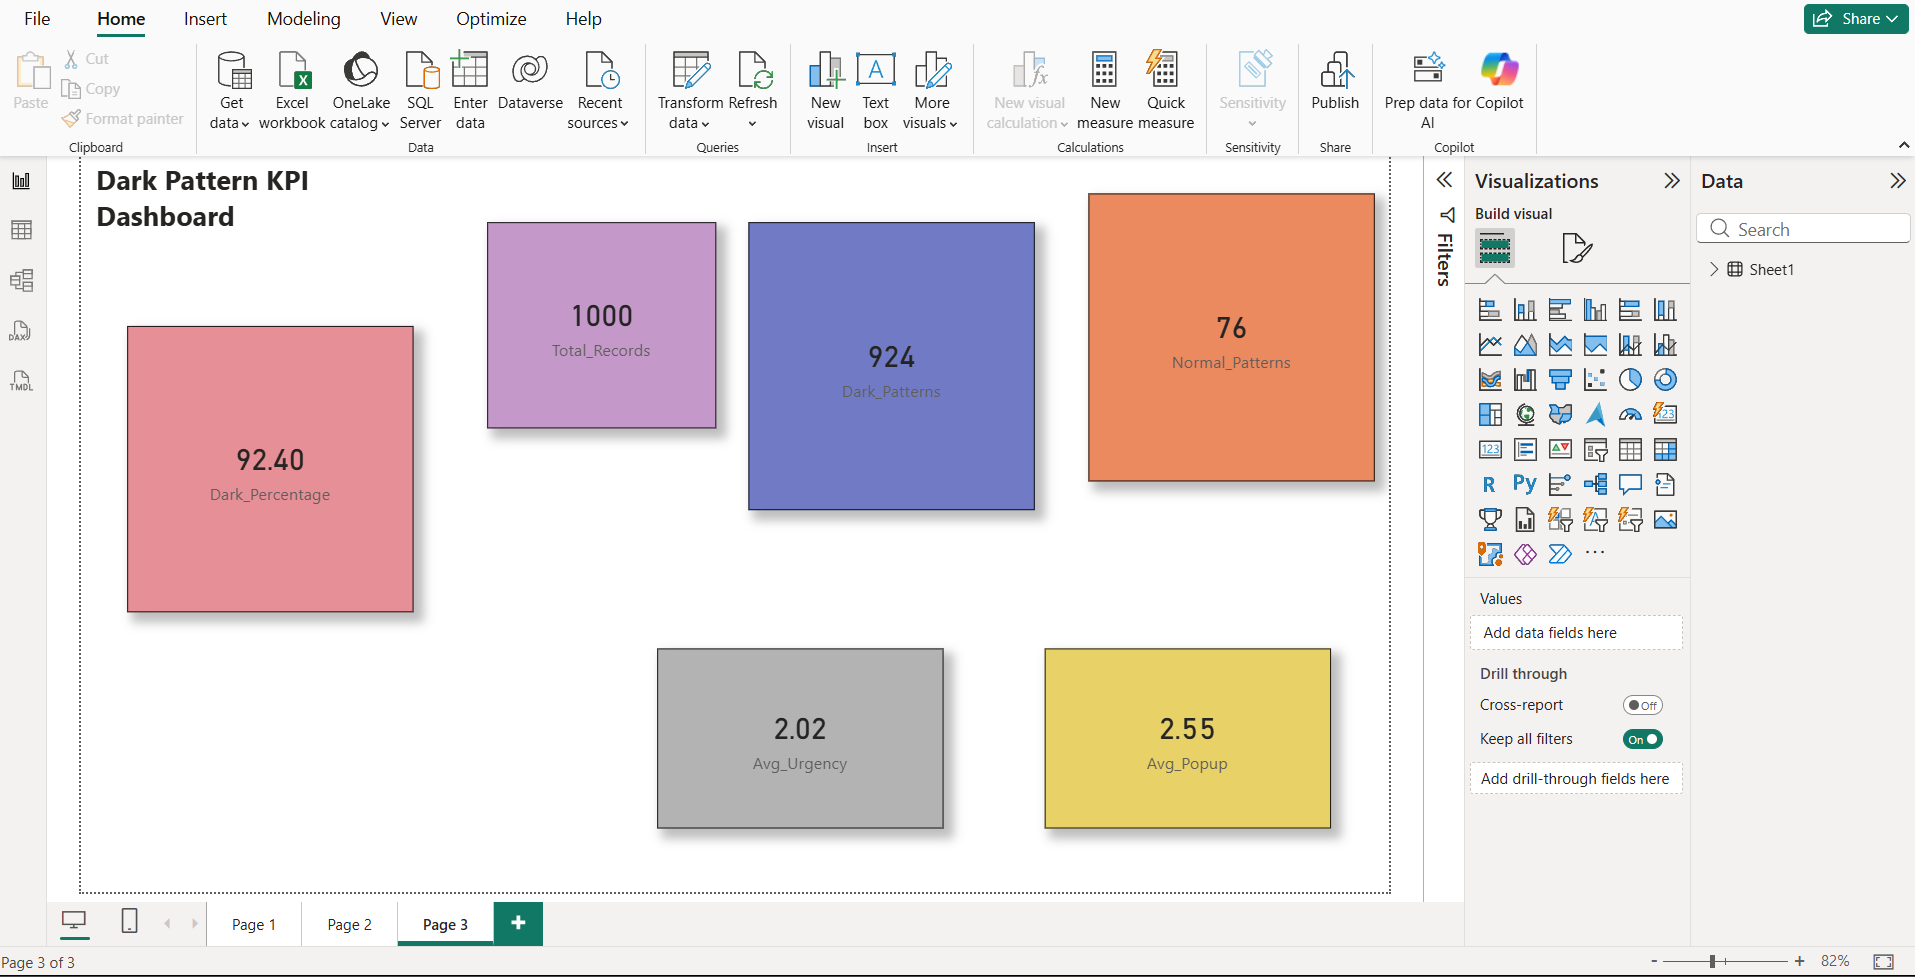

The page's visual inventory and layout, read from the dashboard file:
{"tool":"powerbi","page":{"name":"Page 3","canvas":[1280,720],"ordinal":2},"visuals":[{"type":"textbox","box":[10,0,280,280],"z":0},{"type":"card","fields":{"Values":["Sheet1.Total_Records"]},"box":[397.9,64.5,223.7,201.7],"z":1000},{"type":"card","fields":{"Values":["Sheet1.Dark_Patterns"]},"box":[653.2,64.5,279.9,281.3],"z":2000},{"type":"card","fields":{"Values":["Sheet1.Normal_Patterns"]},"box":[985.3,37,279.9,281.3],"z":3000},{"type":"card","fields":{"Values":["Sheet1.Dark_Percentage"]},"box":[45.3,166,279.9,279.9],"z":4000},{"type":"card","fields":{"Values":["Sheet1.Avg_Urgency"]},"box":[564,481.6,279.9,175.6],"z":5000},{"type":"card","fields":{"Values":["Sheet1.Avg_Popup"]},"box":[942.7,481.6,279.9,175.6],"z":6000}]}

Visuals, with their boxes on the page's 1280x720 design canvas (x1, y1, x2, y2). These are canvas units, not pixel positions in the 1915x977 screenshot, which may show the page scaled, cropped or inside an application window:
textbox: <box>10,0,290,280</box>
card - Sheet1.Total_Records: <box>398,64,622,266</box>
card - Sheet1.Dark_Patterns: <box>653,64,933,346</box>
card - Sheet1.Normal_Patterns: <box>985,37,1265,318</box>
card - Sheet1.Dark_Percentage: <box>45,166,325,446</box>
card - Sheet1.Avg_Urgency: <box>564,482,844,657</box>
card - Sheet1.Avg_Popup: <box>943,482,1223,657</box>
